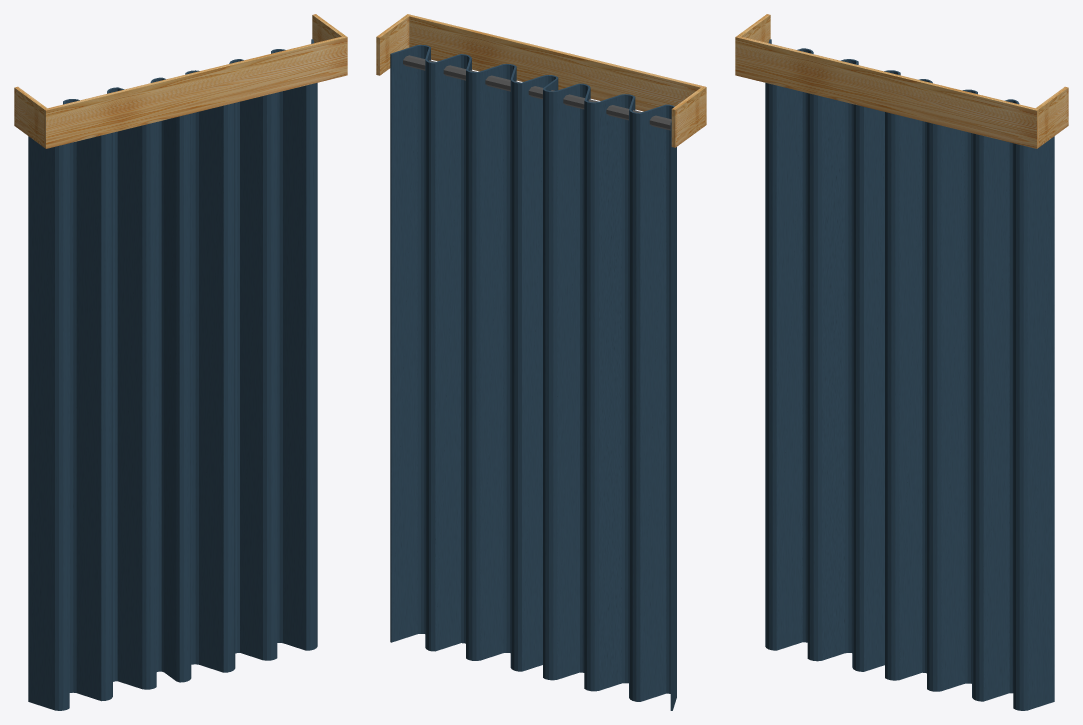
The model's file is curtain.glb.
The picture shows the model from 3 angles, left to right: view 1: azimuth 30°, elevation 25°; view 2: azimuth 150°, elevation 25°; view 3: azimuth 330°, elevation 25°; orthographic projection.
Visible parts, largest first — view 1: 4d82ffd1-250d-4018-4b03-860502a656b1_68, 839d1830-a37a-3562-3a83-96a9457e3309_61, b09845ee-eb1c-ea5a-51a2-c413c1bae777_65, e6369cc7-55a9-9e58-143d-a621bfbdb22e_66, 70b0e7bd-61d4-5388-8d19-db42315fa210_62, 943a8079-7dfb-a862-28f3-686079ed5dc5_75, 6444f07a-ea18-84e1-38d6-10d6e242d341_64, ea01572f-14da-fddb-389d-9003386bc250_4, 01c1769e-5818-59fc-9ec7-f70be6236f27_10, 741b93f0-927f-cfc3-fbbb-627a8da0d25a_12, 5ad689fd-7dd2-1e4a-417e-e465d9a76abe_31, fd6a53f7-35f2-3b0e-97b4-e607f77028b6_40 (+43 smaller); view 2: cd6007cd-c758-eed8-be01-cc730940adfb_1, 76a25672-d591-11cb-5f79-18d8172c5528_63, ef126a4e-a41e-a574-139b-cb1e287232bb_7, 79812f28-5b1f-9be6-3883-76ae378eeb9a_67, da847ea0-7766-b159-591f-11ef670e52a4_0, 7c71fdb7-6a53-1aea-832f-9621b17673e6_59, 1a7796e5-ba61-674a-1c1f-e48dec29dc6b_60, 943a8079-7dfb-a862-28f3-686079ed5dc5_75, 4d82ffd1-250d-4018-4b03-860502a656b1_68, 565e29fd-df19-a4b2-5216-c98d82c28121_15, 4a8450bb-2b4e-0155-af54-b1477ff6e244_32, cc18c71d-a8d0-6d53-3bbe-9eb99a3c6551_35 (+40 smaller); view 3: cd6007cd-c758-eed8-be01-cc730940adfb_1, ef126a4e-a41e-a574-139b-cb1e287232bb_7, 76a25672-d591-11cb-5f79-18d8172c5528_63, 79812f28-5b1f-9be6-3883-76ae378eeb9a_67, 1a7796e5-ba61-674a-1c1f-e48dec29dc6b_60, da847ea0-7766-b159-591f-11ef670e52a4_0, 943a8079-7dfb-a862-28f3-686079ed5dc5_75, 7c71fdb7-6a53-1aea-832f-9621b17673e6_59, 593fbb7c-c35b-ec0d-9461-d9ac48866cd9_36, 26f2ef33-06be-96a4-7a0f-0365a8ed13ef_25, a05bcb71-dd5e-8b5d-5f1b-a06ab345b006_38, aa6006f0-07fa-47f7-75c0-7c55075b8091_27 (+38 smaller).
Boxes of the visible parts, x1,y1,x2,y2 form: 4d82ffd1-250d-4018-4b03-860502a656b1_68: (28, 136, 54, 710); 839d1830-a37a-3562-3a83-96a9457e3309_61: (76, 99, 101, 700); b09845ee-eb1c-ea5a-51a2-c413c1bae777_65: (117, 87, 142, 688); e6369cc7-55a9-9e58-143d-a621bfbdb22e_66: (199, 105, 223, 672); 70b0e7bd-61d4-5388-8d19-db42315fa210_62: (240, 59, 262, 660); 943a8079-7dfb-a862-28f3-686079ed5dc5_75: (44, 35, 347, 148); 6444f07a-ea18-84e1-38d6-10d6e242d341_64: (283, 49, 302, 649); ea01572f-14da-fddb-389d-9003386bc250_4: (164, 79, 176, 680); 01c1769e-5818-59fc-9ec7-f70be6236f27_10: (223, 104, 227, 672); 741b93f0-927f-cfc3-fbbb-627a8da0d25a_12: (179, 115, 183, 682); 5ad689fd-7dd2-1e4a-417e-e465d9a76abe_31: (105, 133, 109, 700); fd6a53f7-35f2-3b0e-97b4-e607f77028b6_40: (267, 94, 271, 660); cd6007cd-c758-eed8-be01-cc730940adfb_1: (390, 45, 417, 642); 76a25672-d591-11cb-5f79-18d8172c5528_63: (640, 104, 666, 701); ef126a4e-a41e-a574-139b-cb1e287232bb_7: (434, 54, 460, 651); 79812f28-5b1f-9be6-3883-76ae378eeb9a_67: (480, 64, 503, 660); da847ea0-7766-b159-591f-11ef670e52a4_0: (598, 94, 621, 690); 7c71fdb7-6a53-1aea-832f-9621b17673e6_59: (557, 83, 579, 679); 1a7796e5-ba61-674a-1c1f-e48dec29dc6b_60: (522, 75, 544, 671); 943a8079-7dfb-a862-28f3-686079ed5dc5_75: (406, 14, 706, 125); 4d82ffd1-250d-4018-4b03-860502a656b1_68: (670, 120, 676, 710); 565e29fd-df19-a4b2-5216-c98d82c28121_15: (431, 62, 435, 651); 4a8450bb-2b4e-0155-af54-b1477ff6e244_32: (468, 71, 472, 660); cc18c71d-a8d0-6d53-3bbe-9eb99a3c6551_35: (590, 102, 594, 691); cd6007cd-c758-eed8-be01-cc730940adfb_1: (1027, 136, 1054, 710); ef126a4e-a41e-a574-139b-cb1e287232bb_7: (983, 99, 1009, 701); 76a25672-d591-11cb-5f79-18d8172c5528_63: (776, 48, 802, 650); 79812f28-5b1f-9be6-3883-76ae378eeb9a_67: (941, 90, 964, 691); 1a7796e5-ba61-674a-1c1f-e48dec29dc6b_60: (899, 79, 922, 679); da847ea0-7766-b159-591f-11ef670e52a4_0: (822, 59, 844, 660); 943a8079-7dfb-a862-28f3-686079ed5dc5_75: (735, 35, 1038, 148); 7c71fdb7-6a53-1aea-832f-9621b17673e6_59: (864, 71, 886, 671); 593fbb7c-c35b-ec0d-9461-d9ac48866cd9_36: (933, 123, 937, 691); 26f2ef33-06be-96a4-7a0f-0365a8ed13ef_25: (887, 112, 891, 680); a05bcb71-dd5e-8b5d-5f1b-a06ab345b006_38: (891, 113, 895, 680); aa6006f0-07fa-47f7-75c0-7c55075b8091_27: (975, 134, 979, 701).
Size of the model in its own units: 1.27 by 2.46 by 0.2308.
3 materials, 3 textured.
